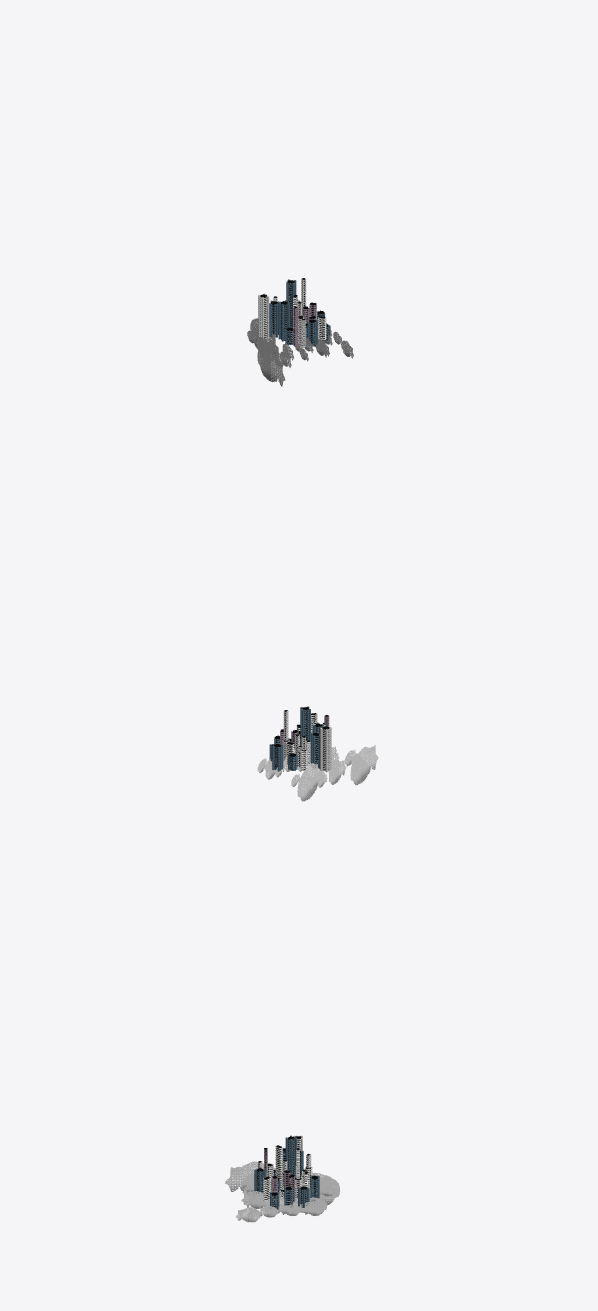
File: free_sci-fi_city_-_public_domain_cc0.glb
3 renders of one model, top to bottom at view 1: azimuth 30°, elevation 25°; view 2: azimuth 150°, elevation 25°; view 3: azimuth 270°, elevation 25°, orthographic.
Visible parts, largest first — view 1: cloud.023, building.015; view 2: cloud.023, cloud.014, building.015; view 3: cloud.023.
Boxes of the visible parts, x1=… form: cloud.023: x1=257, y1=346, x2=285, y2=386; building.015: x1=258, y1=293, x2=269, y2=339; cloud.023: x1=350, y1=745, x2=378, y2=785; cloud.014: x1=297, y1=763, x2=325, y2=801; building.015: x1=320, y1=725, x2=331, y2=772; cloud.023: x1=225, y1=1161, x2=275, y2=1192.
Bounding box in the file's own units: 311 × 200 × 314.
Materials: 10 (1 with a texture image).
